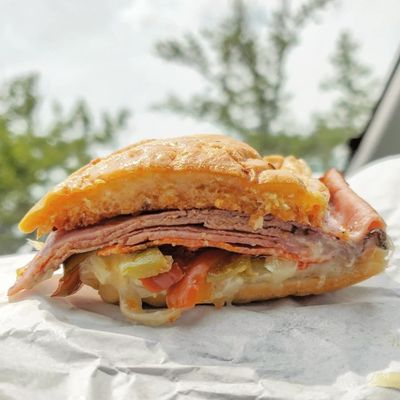soup: (16, 133, 389, 327)
